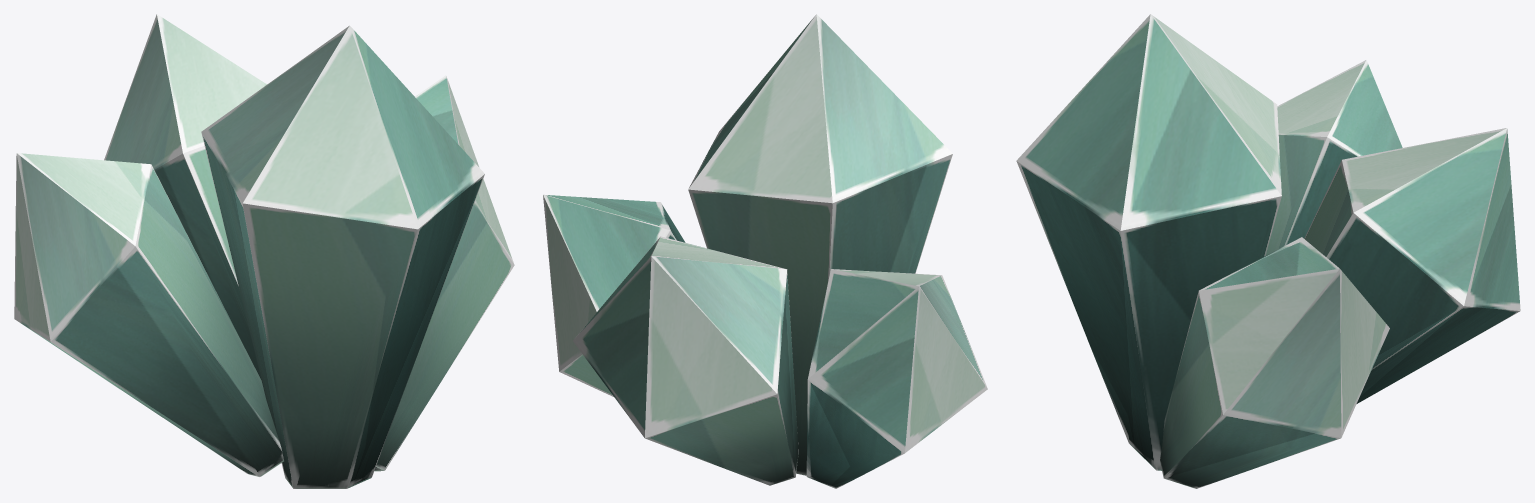
Rendered from A_CV_GEN_Crystals_01.fbx.
3 views of the same model, side by side, from view 1: azimuth 30°, elevation 25°; view 2: azimuth 150°, elevation 25°; view 3: azimuth 270°, elevation 25° (orthographic). The views are drawn at different scales.
Parts seen in each view (by area): view 1: A_CV_GEN_Crystals_01; view 2: A_CV_GEN_Crystals_01; view 3: A_CV_GEN_Crystals_01.
Part boxes in pixels (<box>): A_CV_GEN_Crystals_01: <box>14,14,514,488</box>; A_CV_GEN_Crystals_01: <box>543,14,987,488</box>; A_CV_GEN_Crystals_01: <box>1016,14,1520,488</box>.
Bounding box in the file's own units: 75.14 × 76.56 × 76.64.
Materials: 1 (1 with a texture image).
